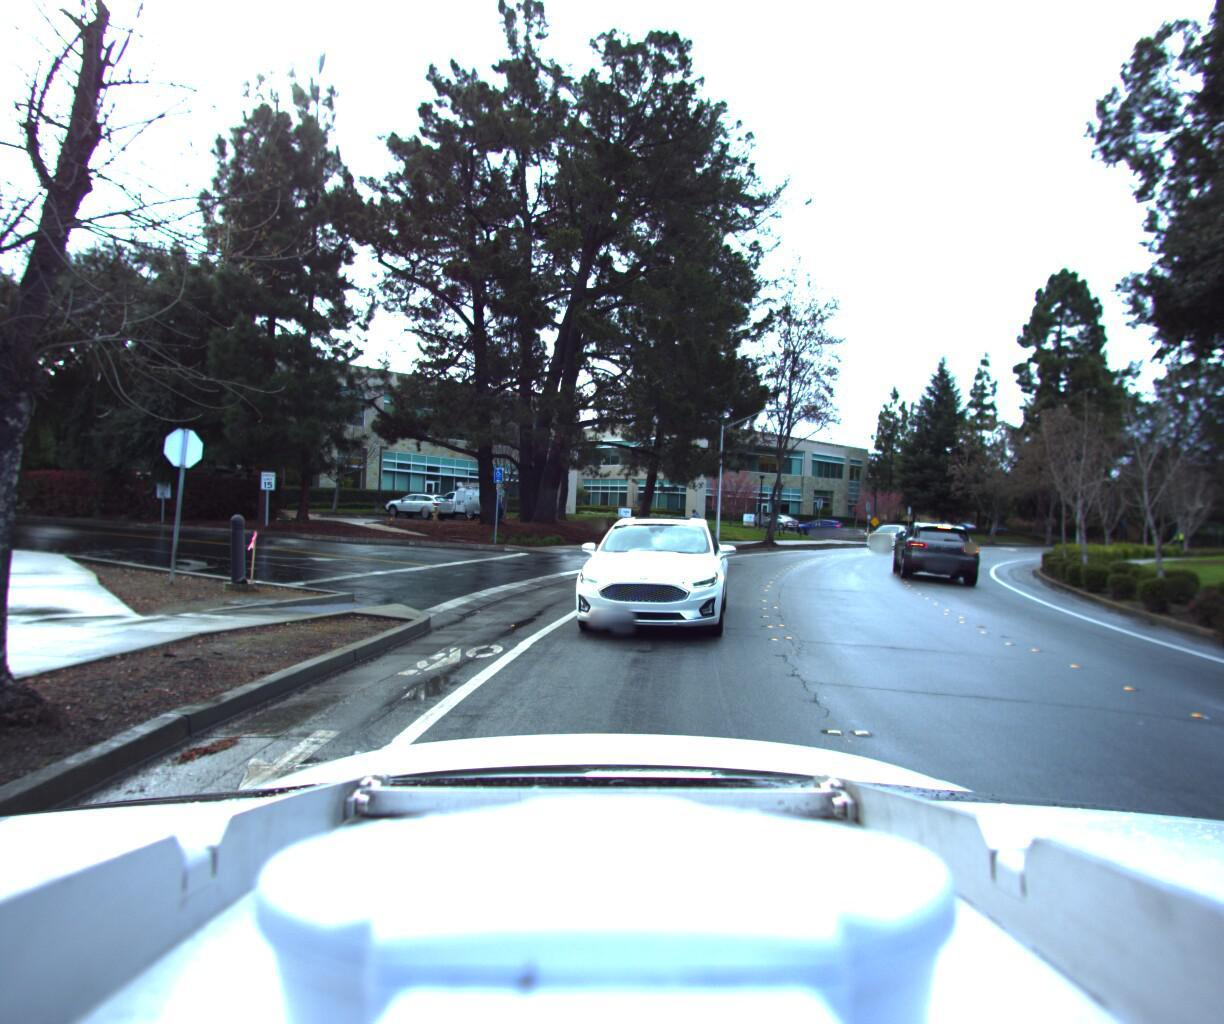car: (551, 508, 740, 656), (888, 521, 973, 582), (856, 522, 914, 551), (782, 518, 841, 538)
